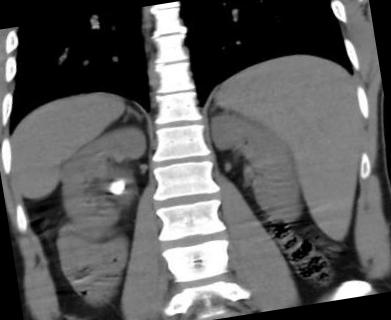Tas_Var: (107, 178, 126, 198)
